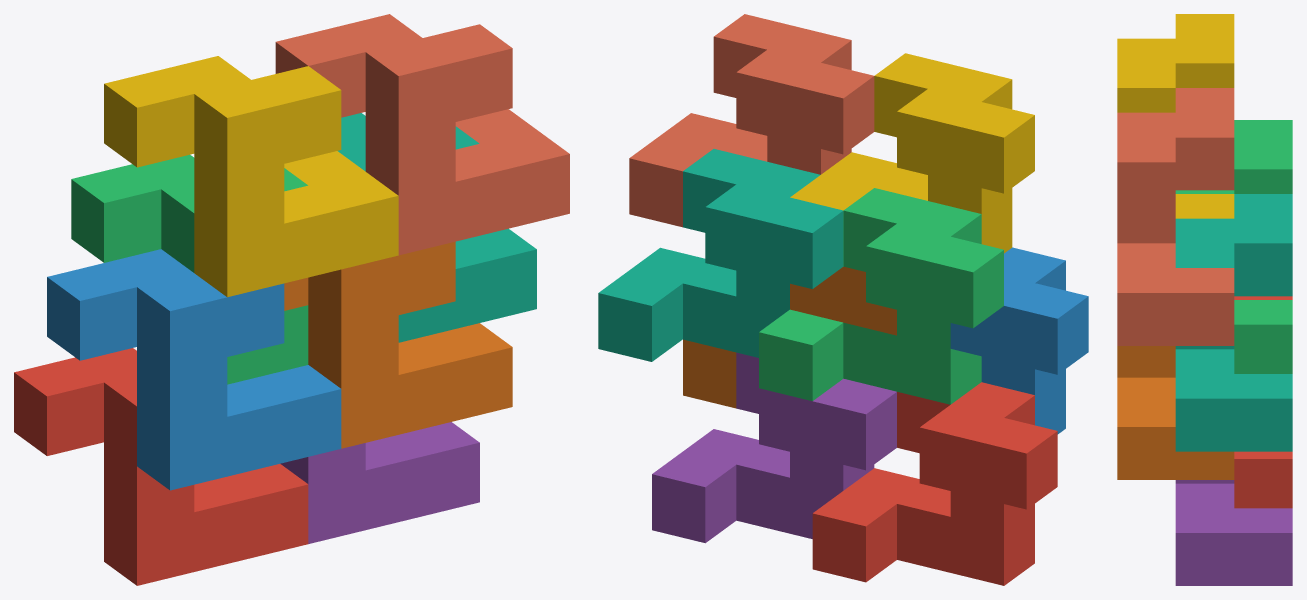
Rendered from tiling.obj.
3 renders of one model, left to right at view 1: azimuth 30°, elevation 25°; view 2: azimuth 150°, elevation 25°; view 3: azimuth 270°, elevation 25°, orthographic. The views are drawn at different scales.
Visible parts, largest first — view 1: copy_1_domain_4, copy_1_domain_2, copy_1_domain_8, copy_1_domain_1, copy_1_domain_6, copy_1_domain_5, copy_1_domain_3, copy_1_domain_7; view 2: copy_1_domain_1, copy_1_domain_3, copy_1_domain_7, copy_1_domain_5, copy_1_domain_8, copy_1_domain_4, copy_1_domain_2, copy_1_domain_6; view 3: copy_1_domain_8, copy_1_domain_7, copy_1_domain_5, copy_1_domain_4, copy_1_domain_6, copy_1_domain_3, copy_1_domain_1.
Boxes of the visible parts, bbox=[...] form: copy_1_domain_4: bbox=[104, 56, 398, 297]; copy_1_domain_2: bbox=[47, 249, 341, 490]; copy_1_domain_8: bbox=[275, 14, 569, 255]; copy_1_domain_1: bbox=[14, 348, 308, 585]; copy_1_domain_6: bbox=[284, 241, 512, 448]; copy_1_domain_5: bbox=[280, 422, 479, 543]; copy_1_domain_3: bbox=[71, 154, 308, 384]; copy_1_domain_7: bbox=[338, 113, 536, 342]; copy_1_domain_1: bbox=[812, 382, 1057, 585]; copy_1_domain_3: bbox=[759, 188, 1003, 404]; copy_1_domain_7: bbox=[598, 149, 843, 361]; copy_1_domain_5: bbox=[652, 352, 896, 543]; copy_1_domain_8: bbox=[629, 14, 874, 227]; copy_1_domain_4: bbox=[790, 53, 1034, 253]; copy_1_domain_2: bbox=[950, 247, 1088, 434]; copy_1_domain_6: bbox=[683, 266, 896, 408]; copy_1_domain_8: bbox=[1117, 88, 1234, 345]; copy_1_domain_7: bbox=[1175, 194, 1292, 451]; copy_1_domain_5: bbox=[1175, 480, 1292, 585]; copy_1_domain_4: bbox=[1117, 14, 1234, 218]; copy_1_domain_6: bbox=[1117, 346, 1234, 479]; copy_1_domain_3: bbox=[1175, 120, 1292, 373]; copy_1_domain_1: bbox=[1234, 296, 1292, 508].
Size of the model in its own units: 8 by 8 by 3.
